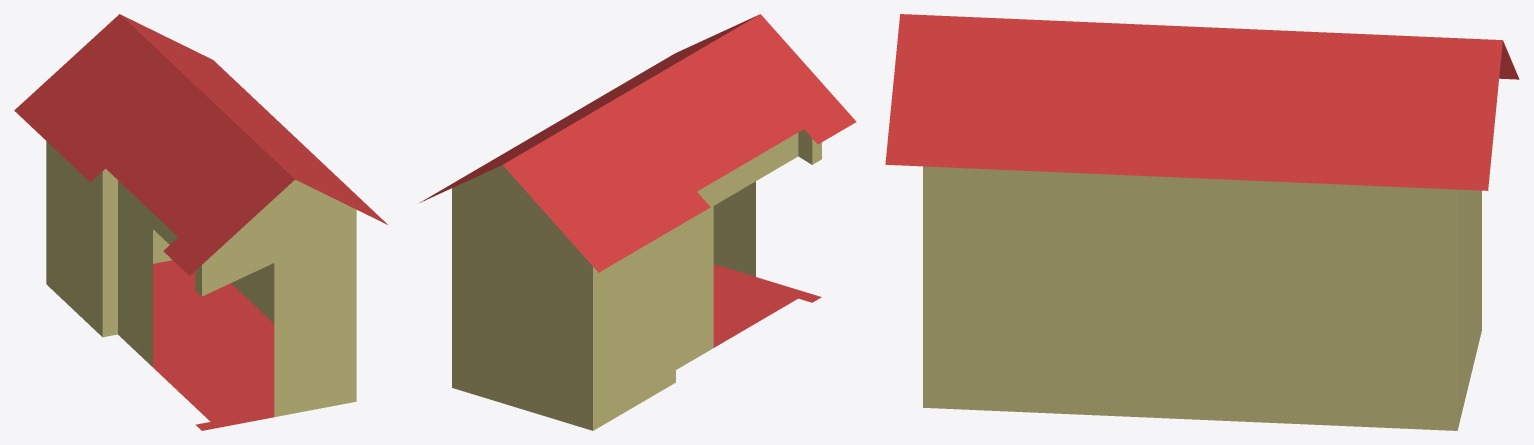
3 views of the same model, side by side, from view 1: azimuth 30°, elevation 25°; view 2: azimuth 150°, elevation 25°; view 3: azimuth 270°, elevation 25° (orthographic). The views are drawn at different scales.
Size of the model in its own units: 10.76 by 18.53 by 11.15.
